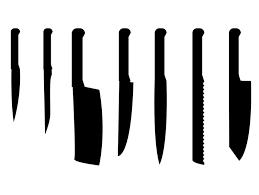Knife: (71, 27, 102, 165), (228, 27, 251, 160), (117, 27, 133, 155), (191, 27, 204, 164), (154, 27, 167, 163), (43, 27, 52, 133), (10, 27, 20, 121)
